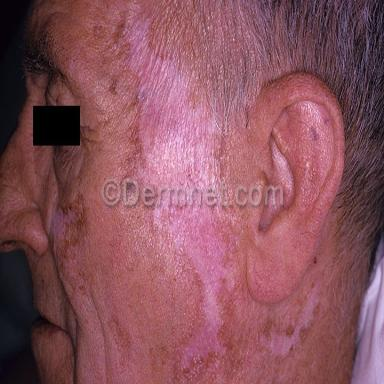Lupus-Erythematosus-Chronicus-Discoides: (124, 7, 224, 184), (149, 208, 241, 380), (258, 280, 324, 361), (46, 192, 86, 265)
